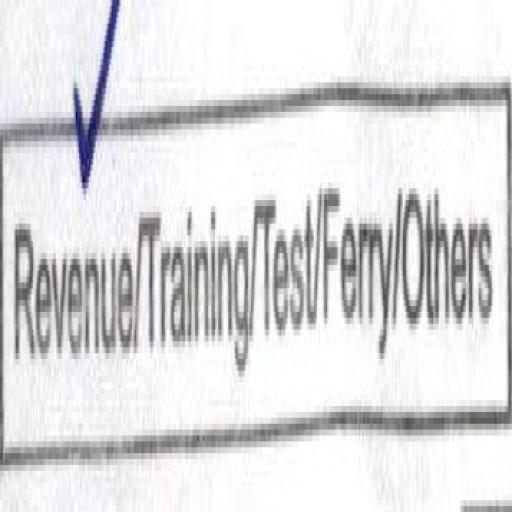check: (3, 6, 136, 449)
